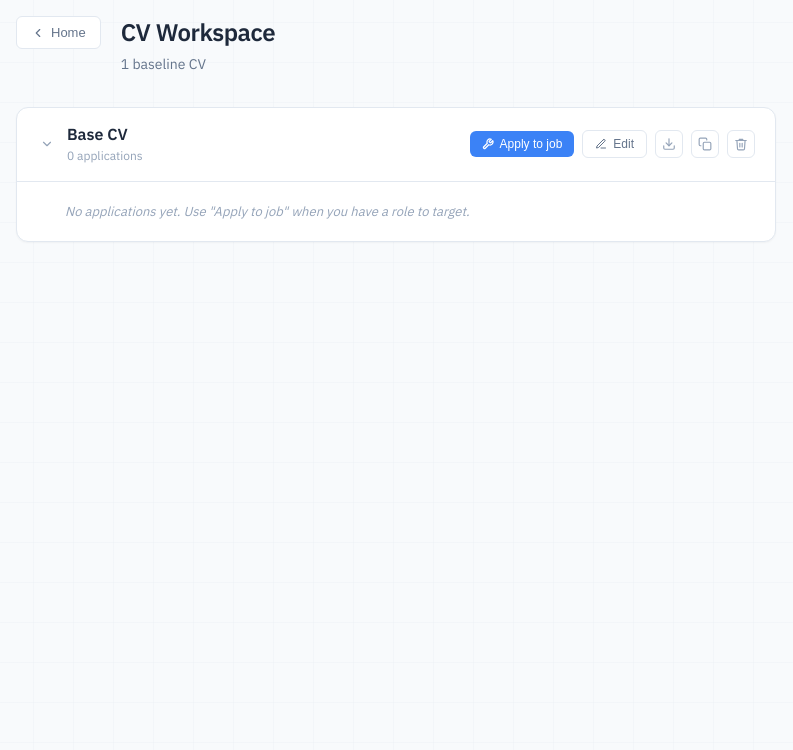
Test case: Dashboard download feedback › (h) compile success without pdf_base64 shows a missing-PDF toast
Expected: the text "Base CV" is shown, [67,124,128,144]
Click the button titled "Download PDF".
click(669, 144)  # box [655,130,683,158]
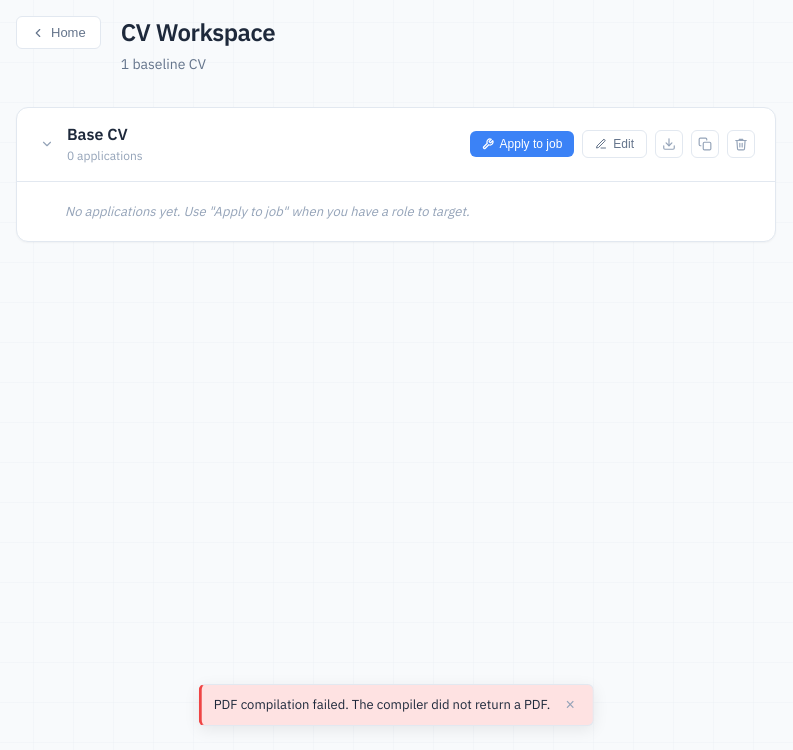
Expected: the text "PDF compilation failed. The compiler did not return a PDF." is shown, [214,695,550,715]
